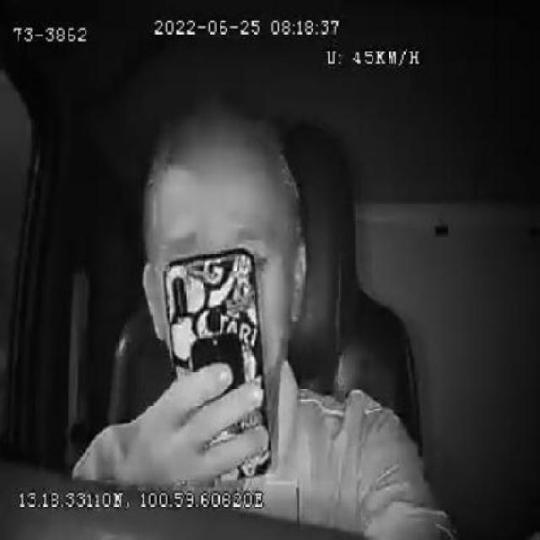phone: (163, 247, 274, 477)
